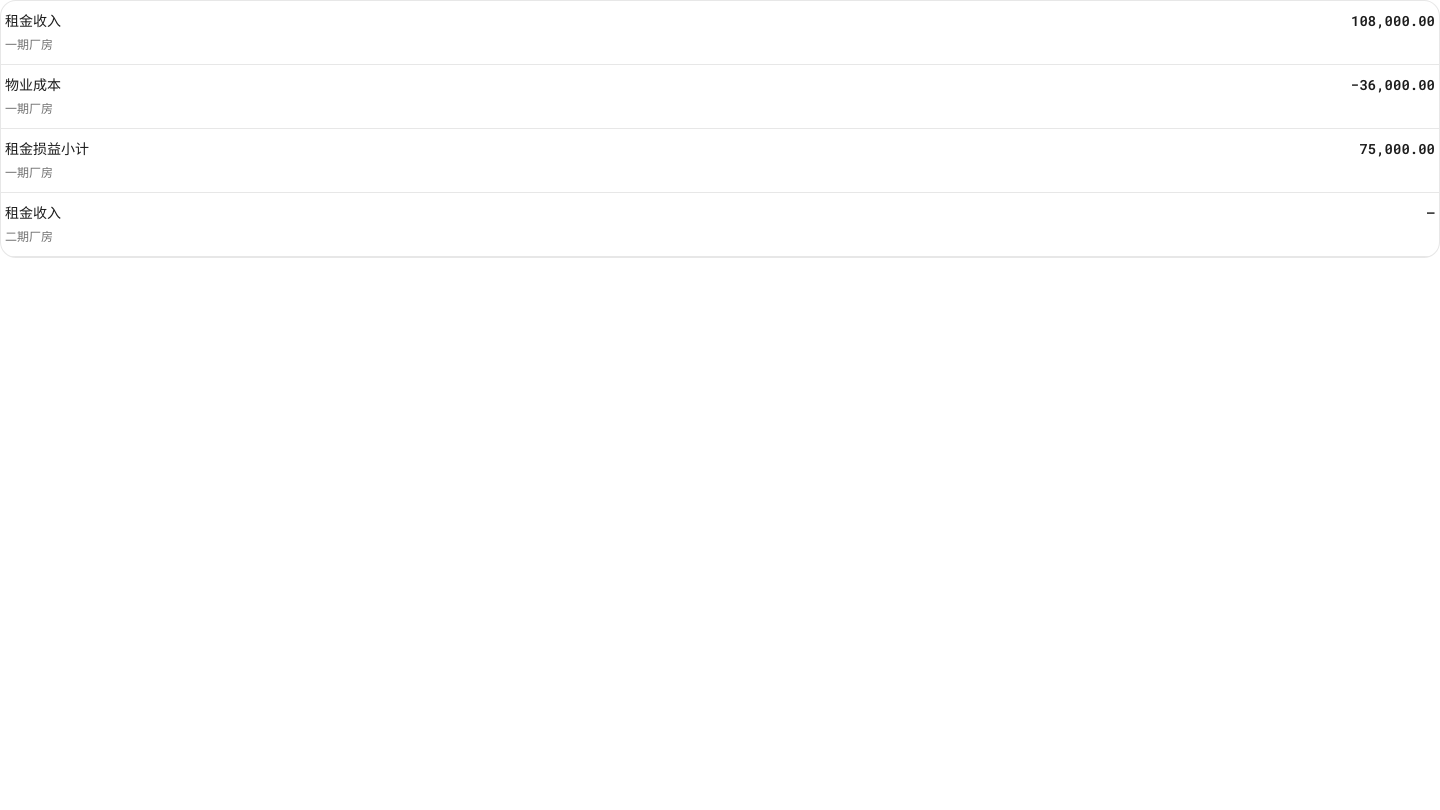
损益附表 · S 档卡片化(稿 WideCardVariants §3) › ❗点卡片开抽屉:12 个月逐月列 + 末行本年合计,未录显 –
This screenshot has width=1440, height=810.
Click the element with class "fpwc-c" showing "租金收入 108,000.00 一期厂房" at (720, 33), box x1=1 y1=1 x2=1439 y2=65
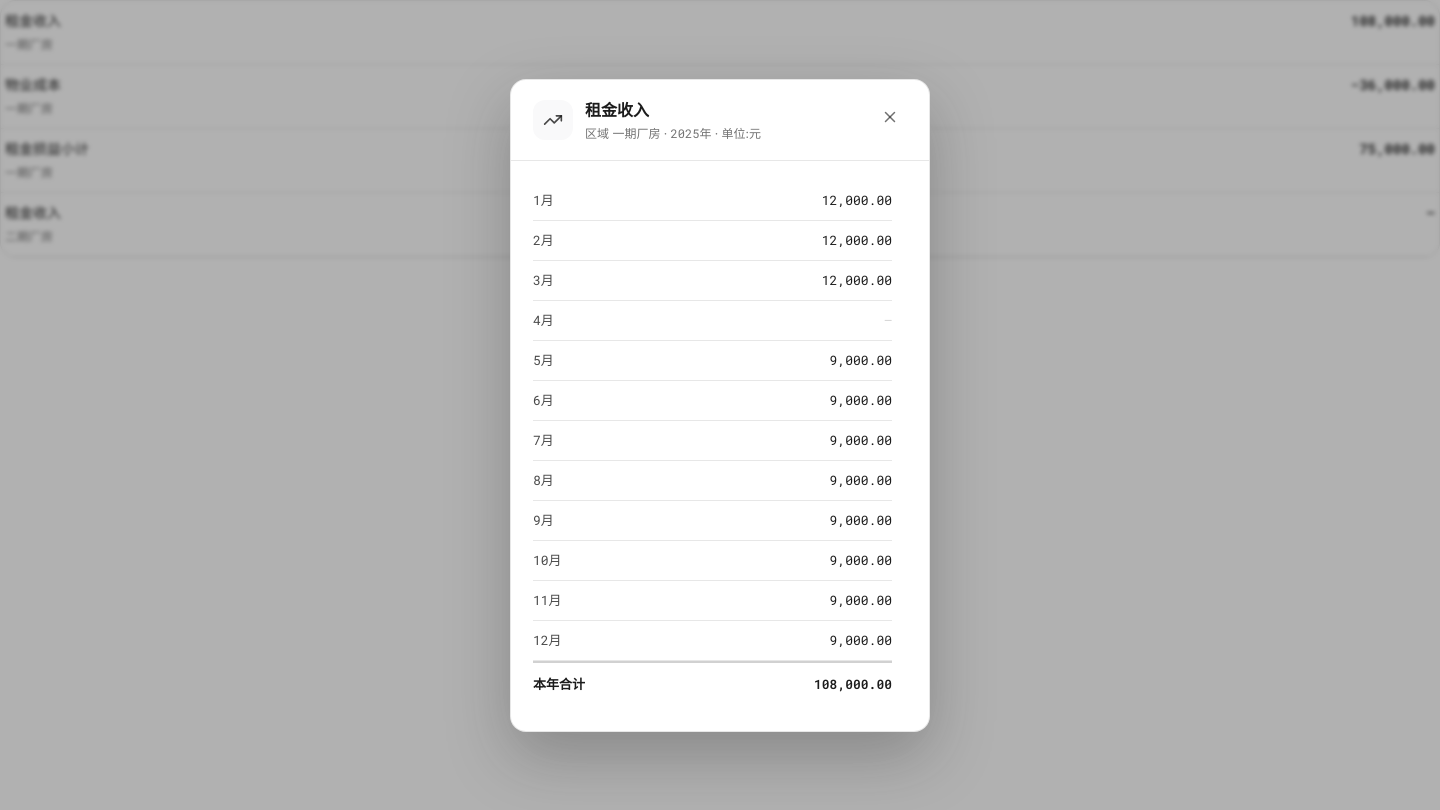
Check: the heading "租金收入" is shown, box x1=585 y1=100 x2=649 y2=120
Check: the element showing "区域 一期厂房 · 2025年 · 单位:元" is shown, box x1=585 y1=126 x2=761 y2=140
Click the button with class "fp-dwr-x" at (890, 116), box x1=873 y1=100 x2=907 y2=134
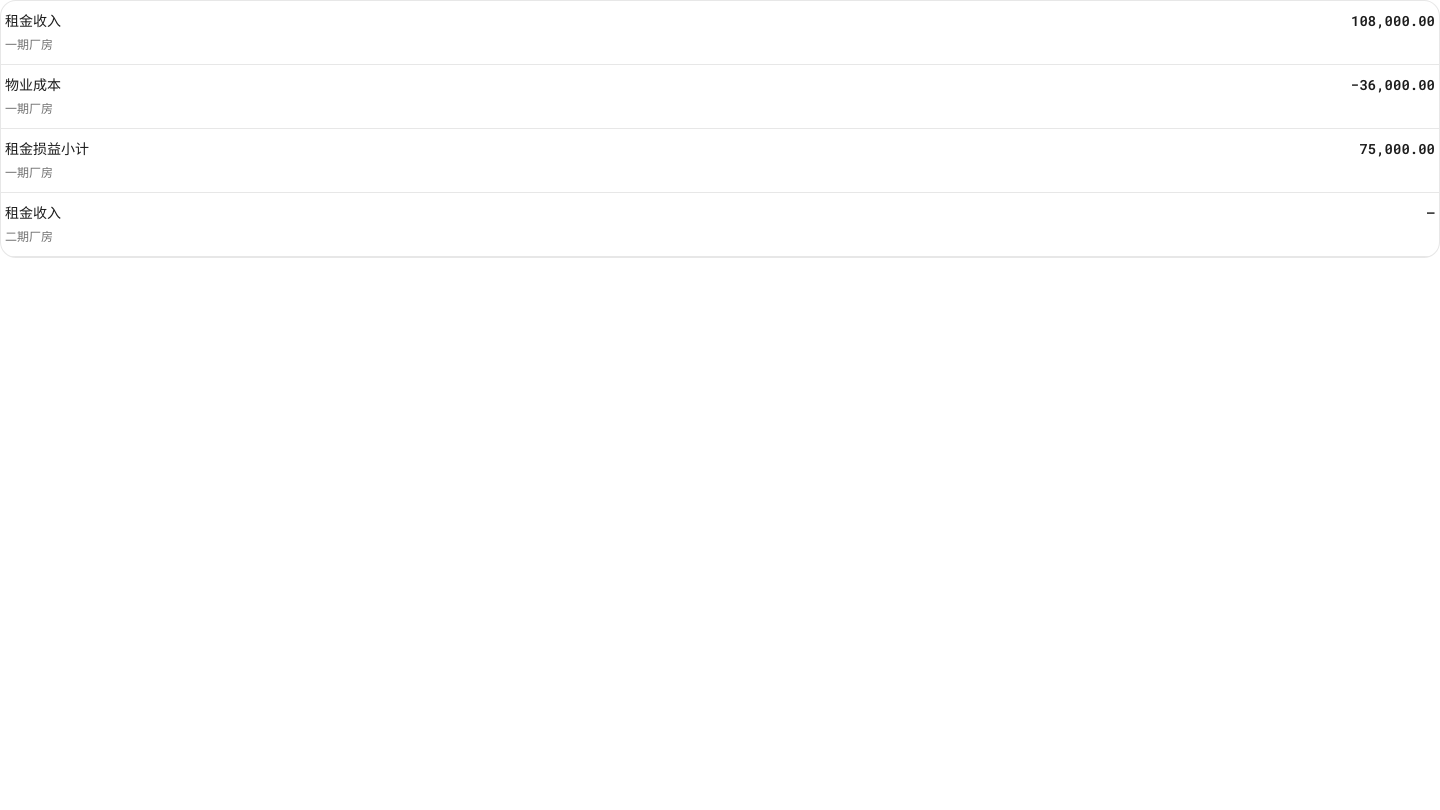
Check: the dialog with class "fp-dwr" is gone
